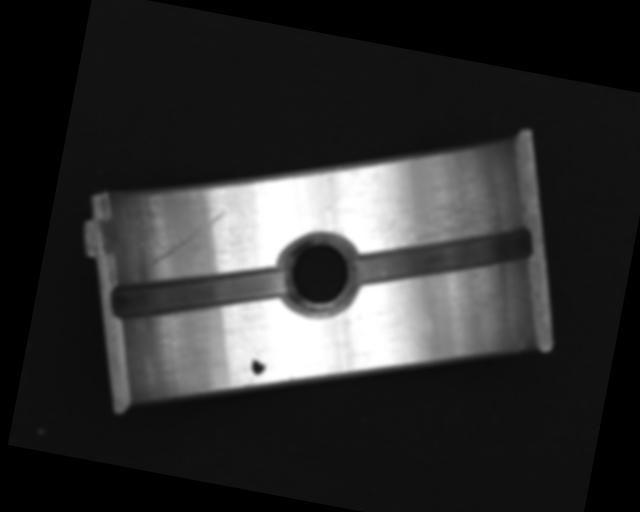blot: (249, 353, 267, 377)
gap: (350, 197, 534, 315), (106, 236, 288, 346)
hole: (273, 226, 364, 325)
nick: (148, 196, 226, 278)
scratch: (365, 157, 520, 269)
